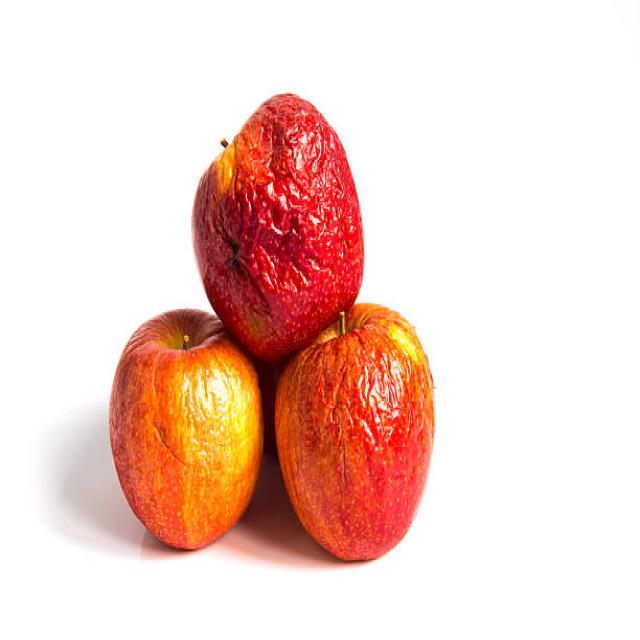overripe: (188, 89, 365, 352), (273, 298, 438, 565), (107, 305, 265, 553)
